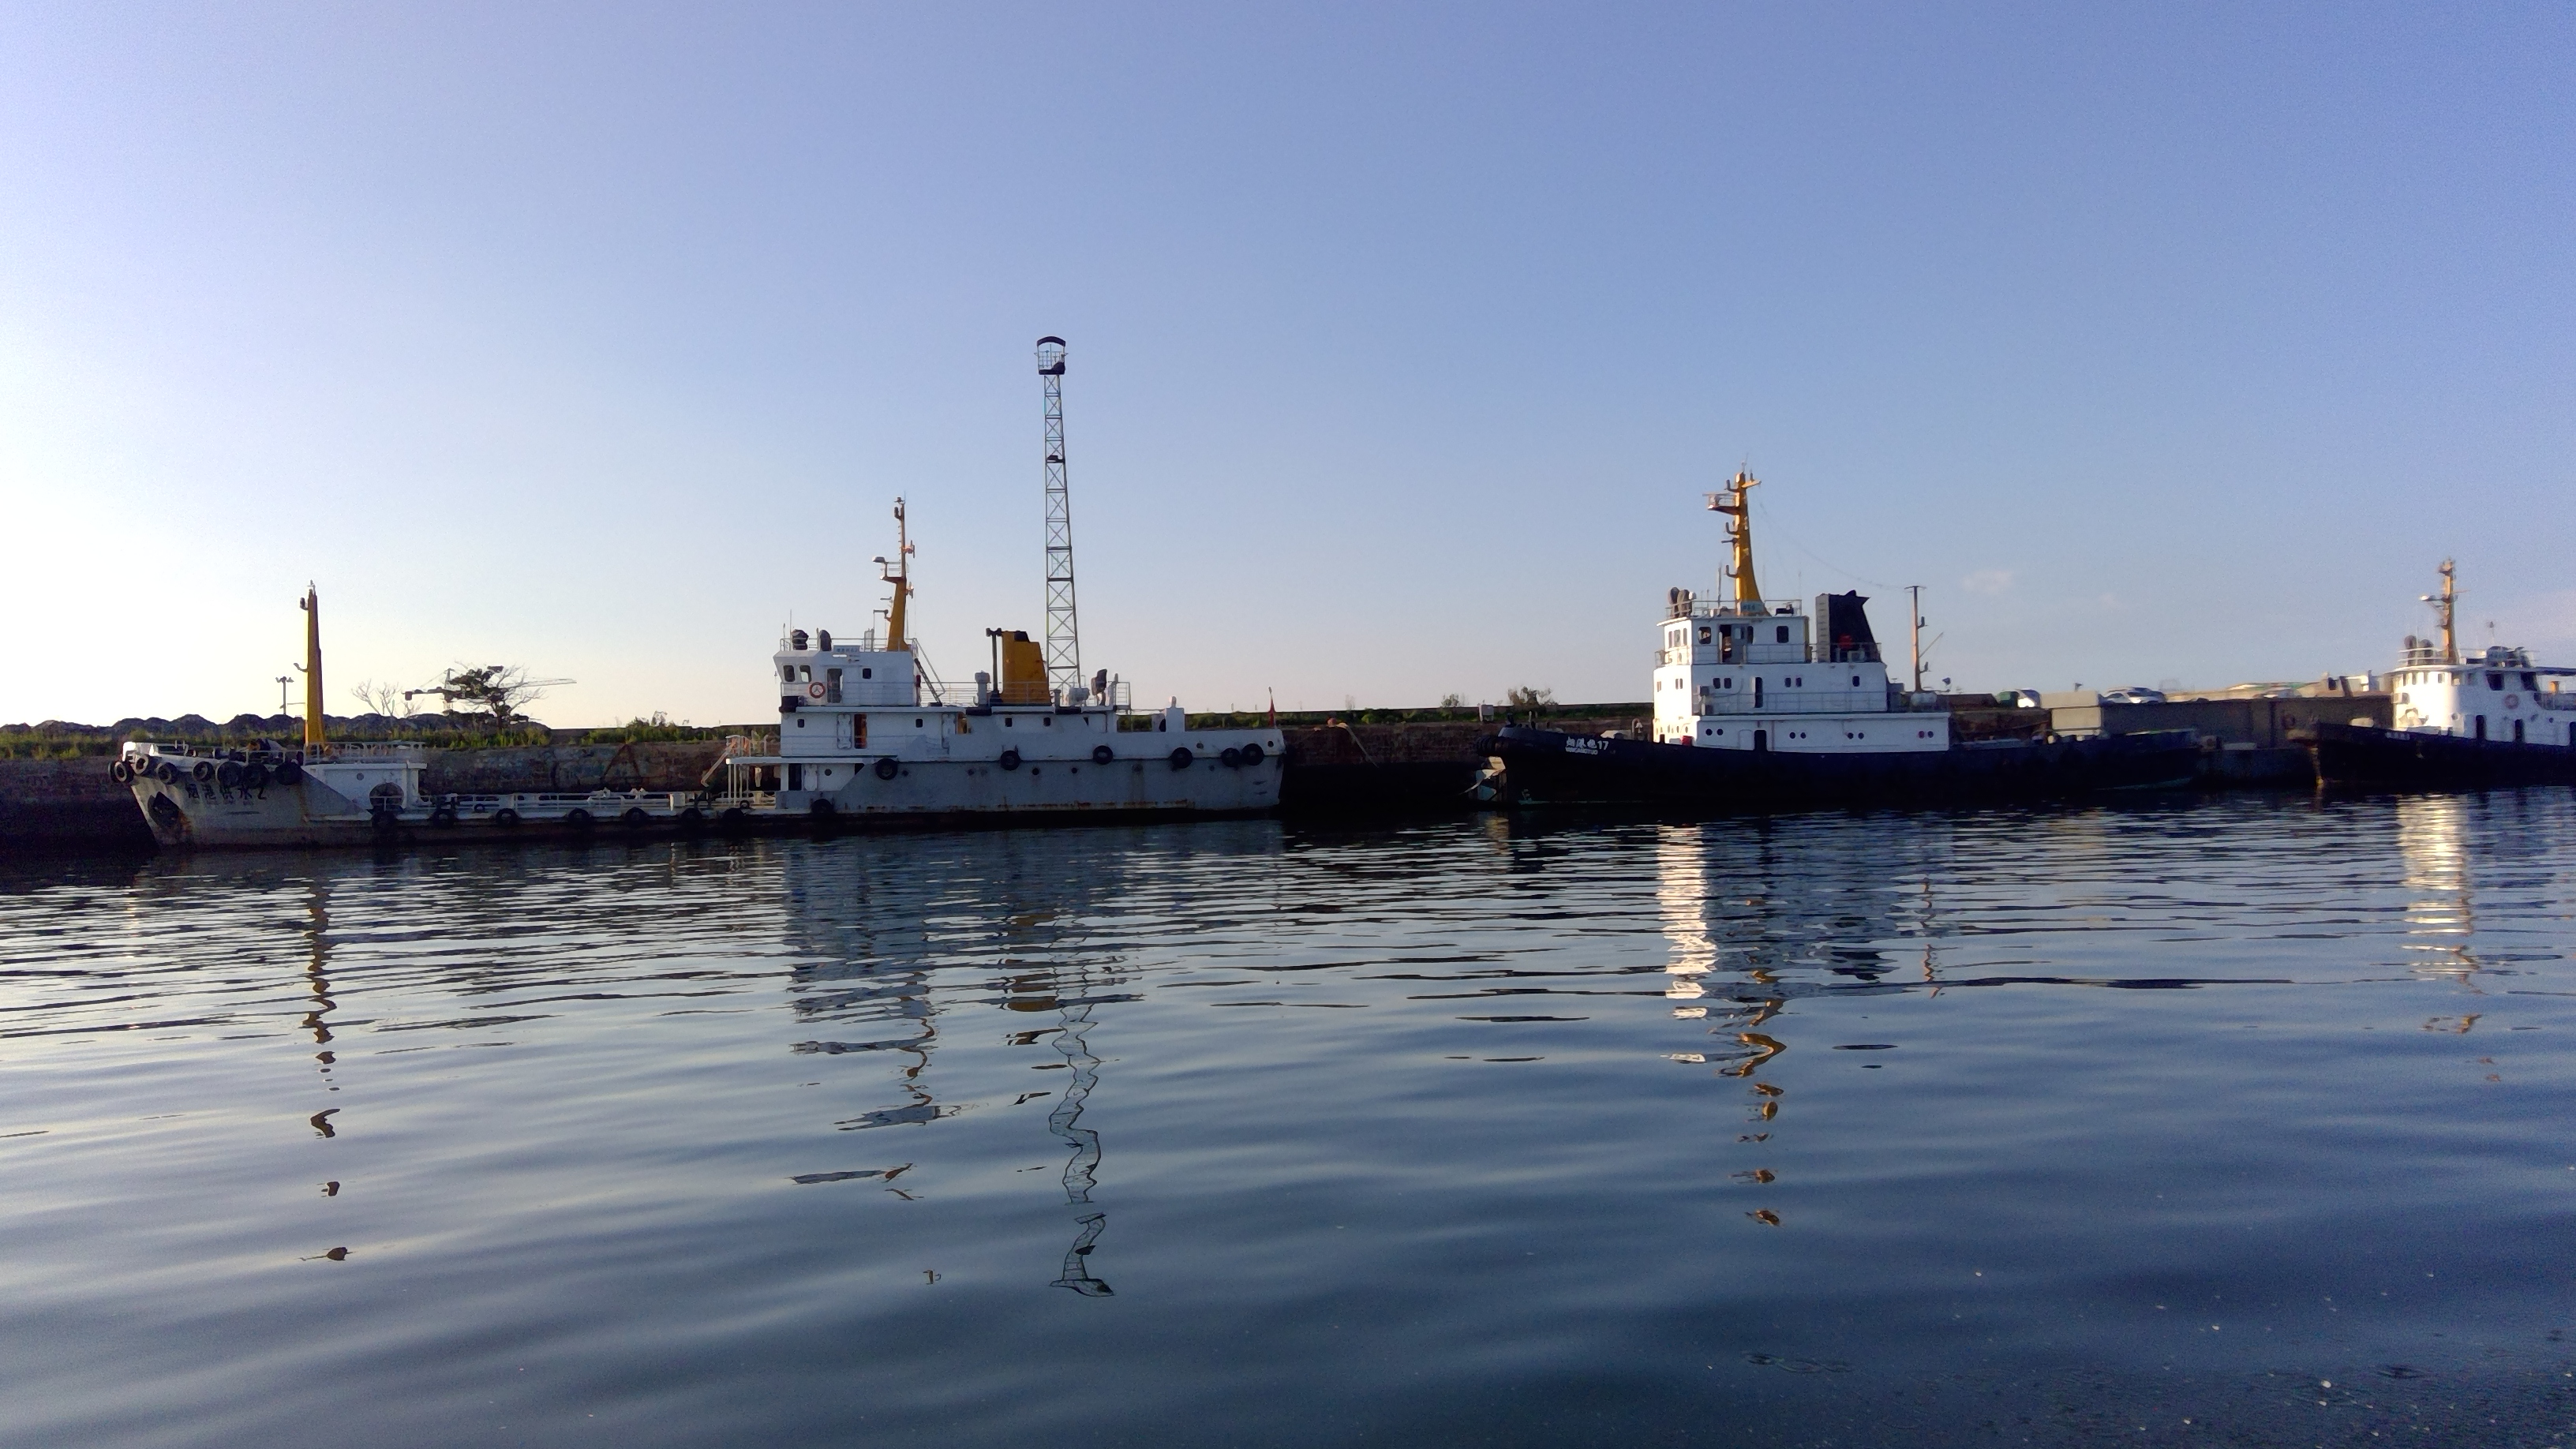ship: (1463, 577, 2051, 830), (681, 621, 1284, 842), (88, 678, 483, 872), (2189, 610, 2576, 798)
